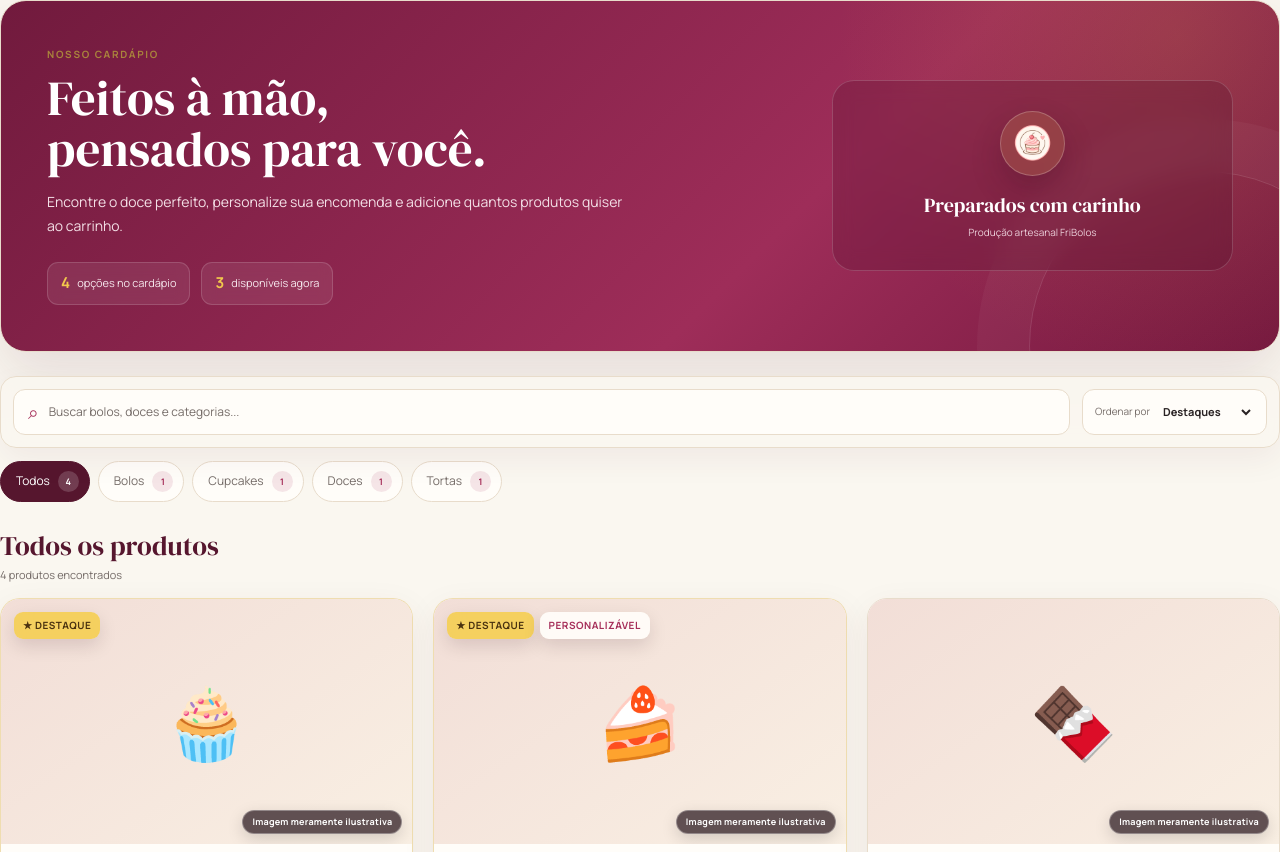
it: ClientCatalog - busca e filtros › mostra o estado sem resultados
Step 1. Type "produto inexistente" into the search field → (552, 412), box [49,403,1055,421]
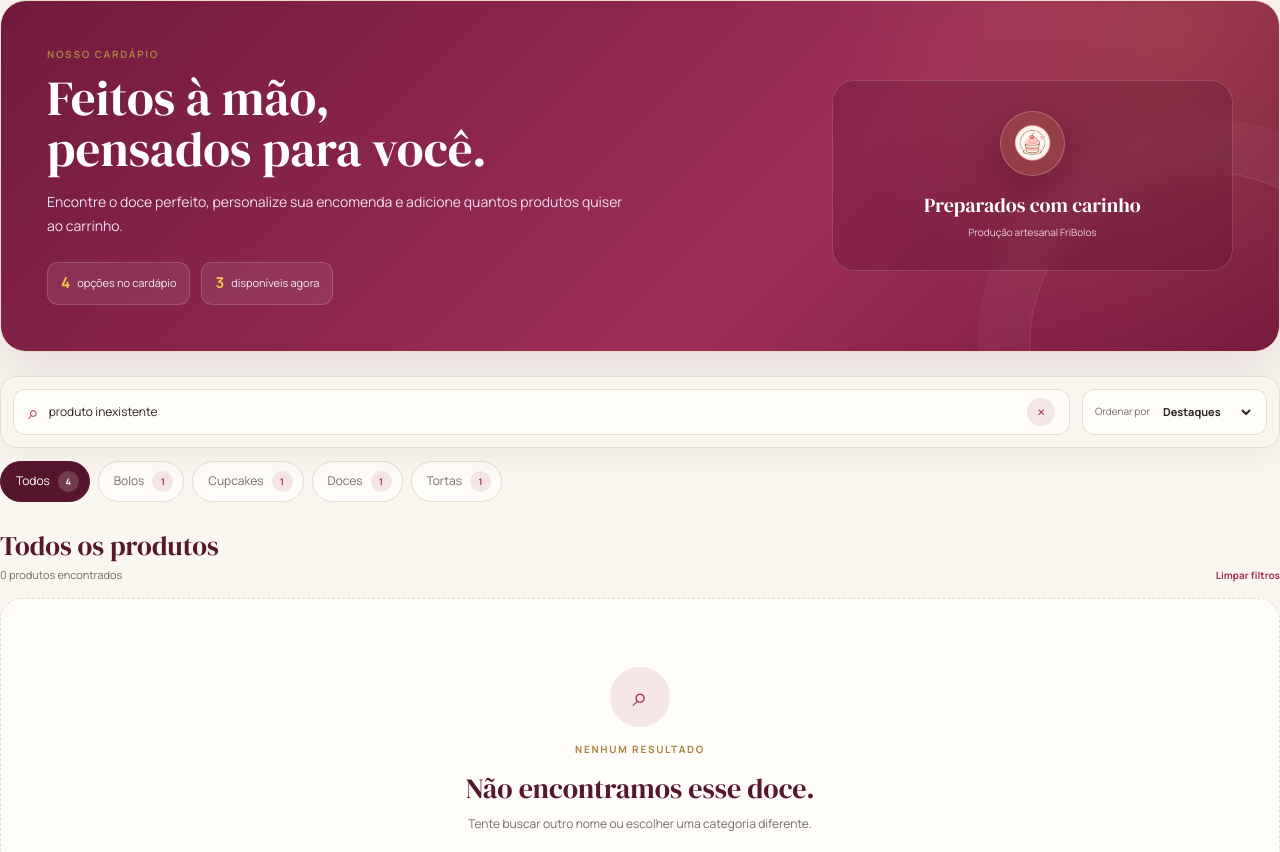
Check: the heading "Não encontramos esse doce." is shown, box [465,769,815,807]
